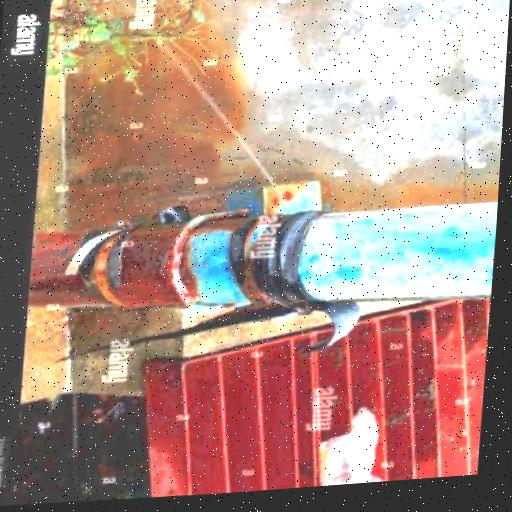corrosion: (32, 216, 204, 313)
